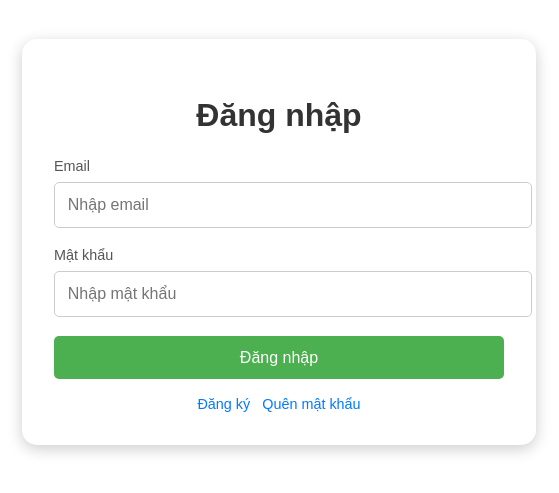
Test: LoginPage.cy.jsx › should show error message for invalid login credentials
This screenshot has width=559, height=493.
Điền thông tin sai và submit form
Type "wrong@example.com" into the field with id "email" at point(293, 205), box [54,182,532,228]
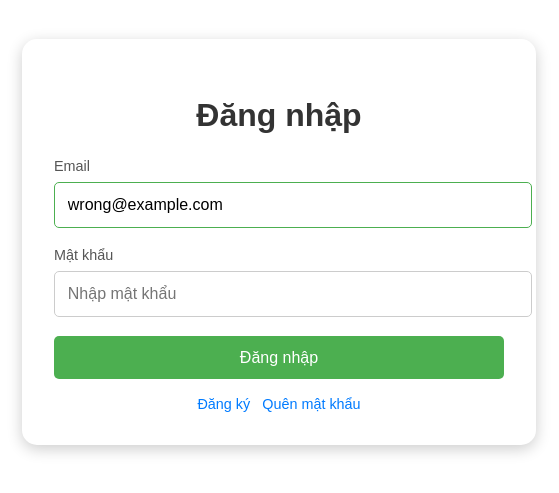
Type "wrongpassword" into the password field labelled "Mật khẩu" at point(293, 294), box [54,271,532,317]
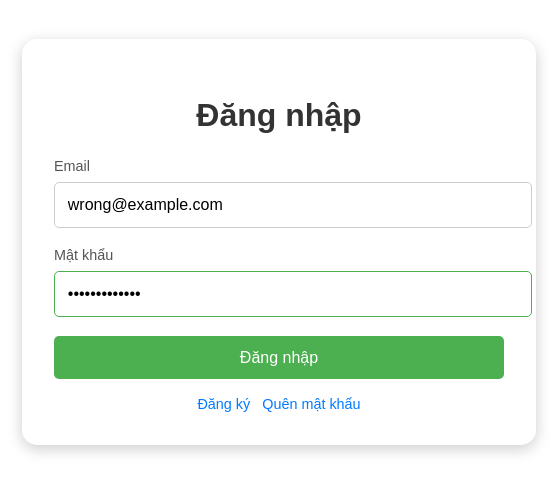
Click the submit button at point(279, 358), box [54,336,504,380]
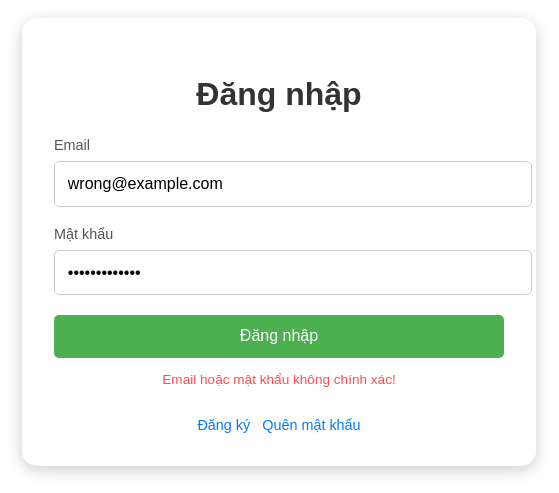
Now the text with class "error-message" reads "Email hoặc mật khẩu không chính xác!", box [162,372,396,387]
